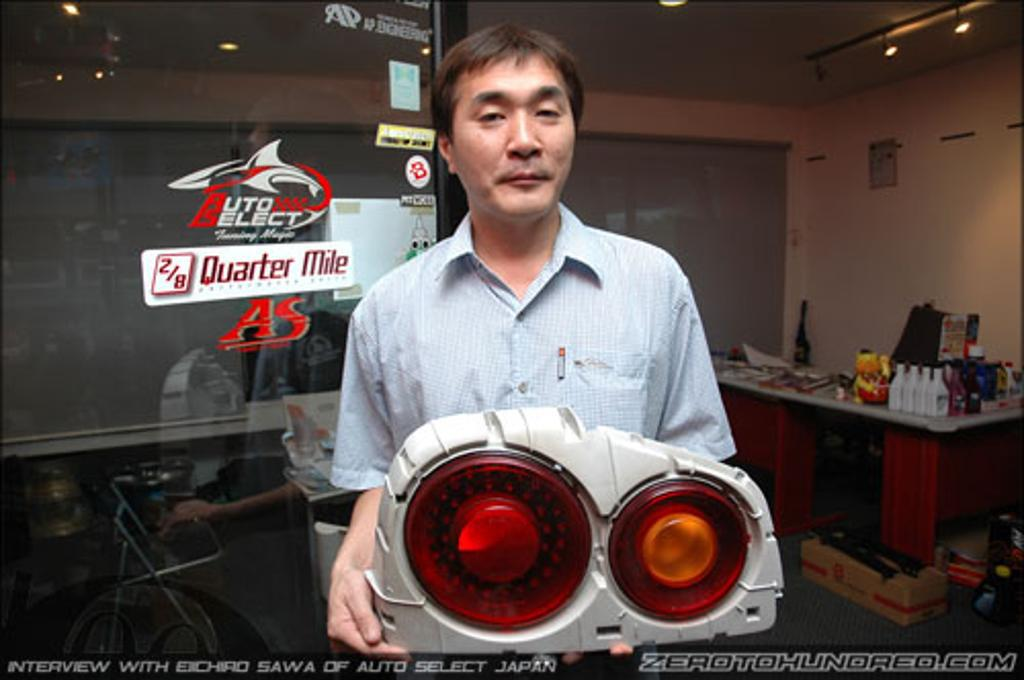face: (459, 55, 577, 221)
